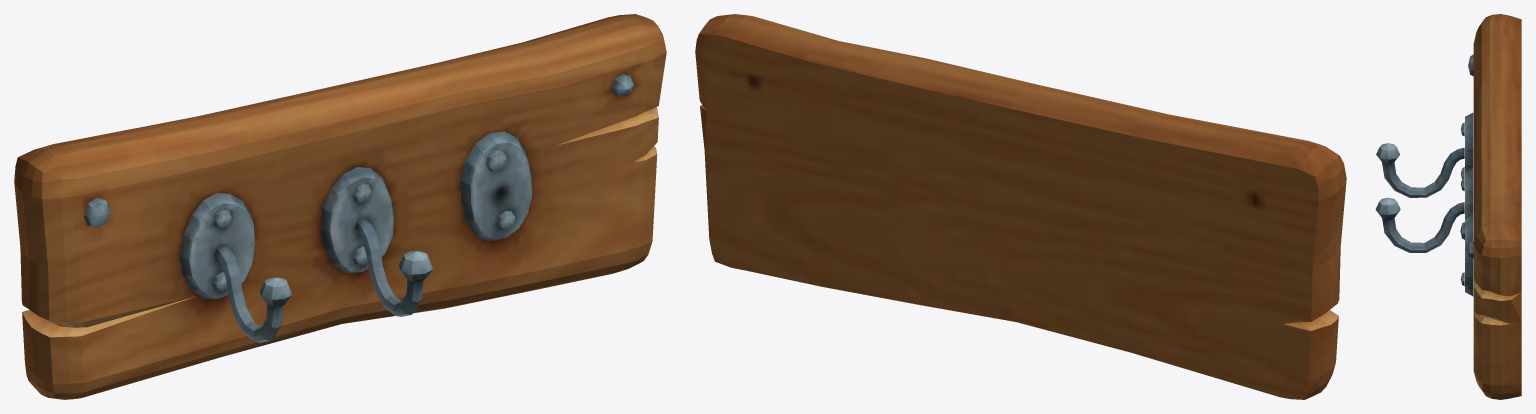
The picture shows the model from 3 angles, left to right: view 1: azimuth 30°, elevation 25°; view 2: azimuth 150°, elevation 25°; view 3: azimuth 270°, elevation 25°; orthographic projection. The views are drawn at different scales.
Parts seen in each view (by area): view 1: hanger_hook.mo; view 2: hanger_hook.mo; view 3: hanger_hook.mo.
Part boxes in pixels (x1,y1,x2,y2): hanger_hook.mo: (14, 14, 666, 399); hanger_hook.mo: (695, 14, 1346, 399); hanger_hook.mo: (1375, 14, 1521, 399).
Bounding box in the file's own units: 56.45 × 21.7 × 15.63.
1 material, 1 textured.
